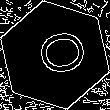O_W: (25, 29, 85, 81)
